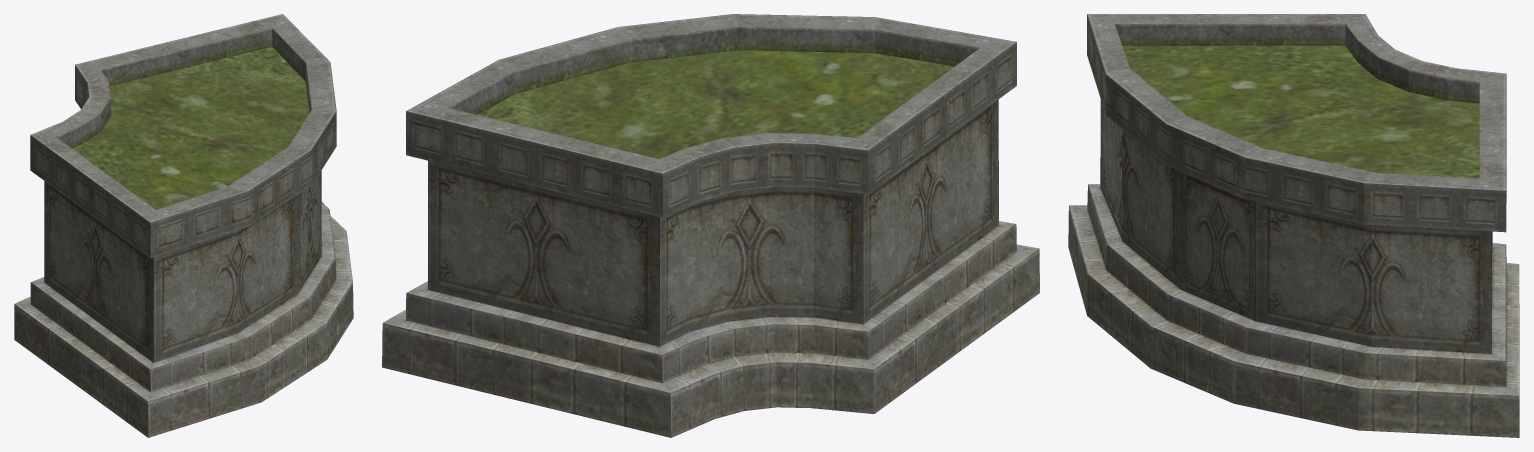
Rendered from bg_lut_lucastle_flowergarden03_sm_artree.FBX.
3 views of the same model, side by side, from view 1: azimuth 30°, elevation 25°; view 2: azimuth 150°, elevation 25°; view 3: azimuth 270°, elevation 25° (orthographic). The views are drawn at different scales.
Visible parts, largest first — view 1: bg_lut_lucastle_flowergarden03_sm_artree; view 2: bg_lut_lucastle_flowergarden03_sm_artree; view 3: bg_lut_lucastle_flowergarden03_sm_artree.
Part boxes in pixels (x1=…): bg_lut_lucastle_flowergarden03_sm_artree: x1=14, y1=14, x2=353, y2=437; bg_lut_lucastle_flowergarden03_sm_artree: x1=382, y1=14, x2=1039, y2=437; bg_lut_lucastle_flowergarden03_sm_artree: x1=1068, y1=14, x2=1519, y2=437.
Bounding box in the file's own units: 132 × 77.04 × 132.
